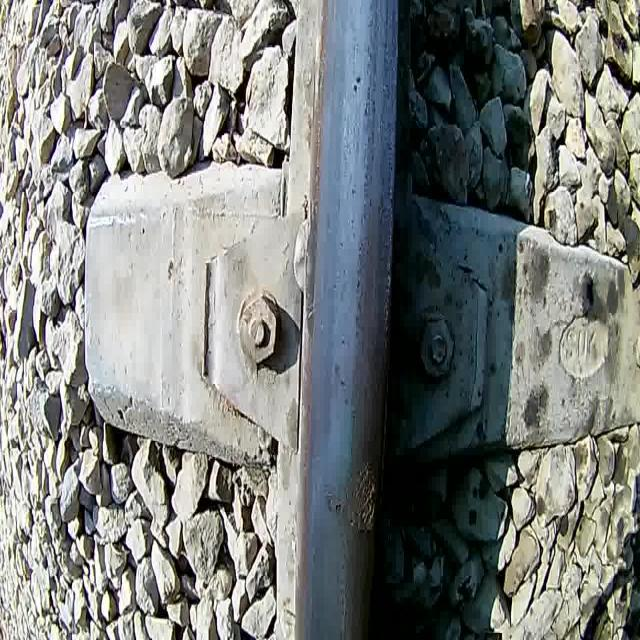Spallings: (346, 456, 379, 537)
Squats: (321, 476, 346, 520)
